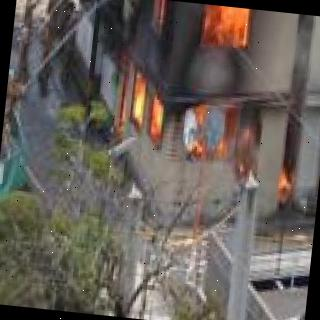fire: (89, 0, 320, 208)
